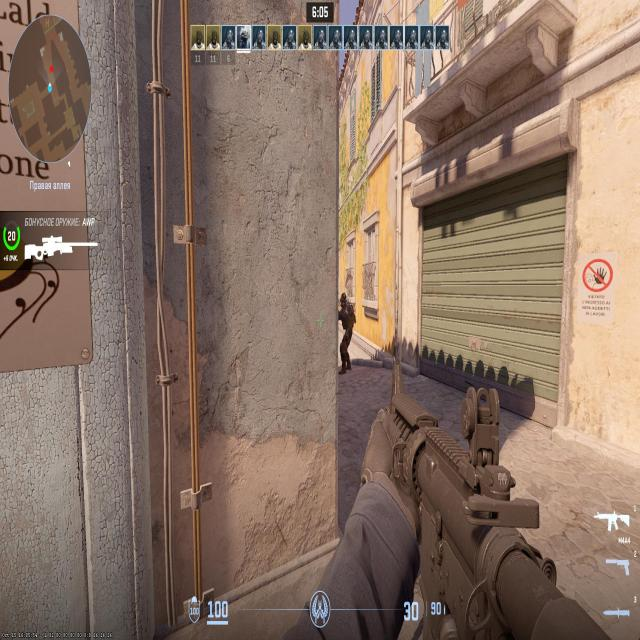CT: (339, 291, 354, 378)
CT_heat: (341, 295, 347, 308)
